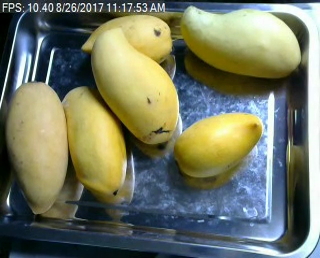Mango: (91, 28, 179, 144), (181, 5, 301, 77), (6, 80, 69, 213), (62, 85, 129, 195), (173, 112, 263, 177), (82, 14, 171, 67)
